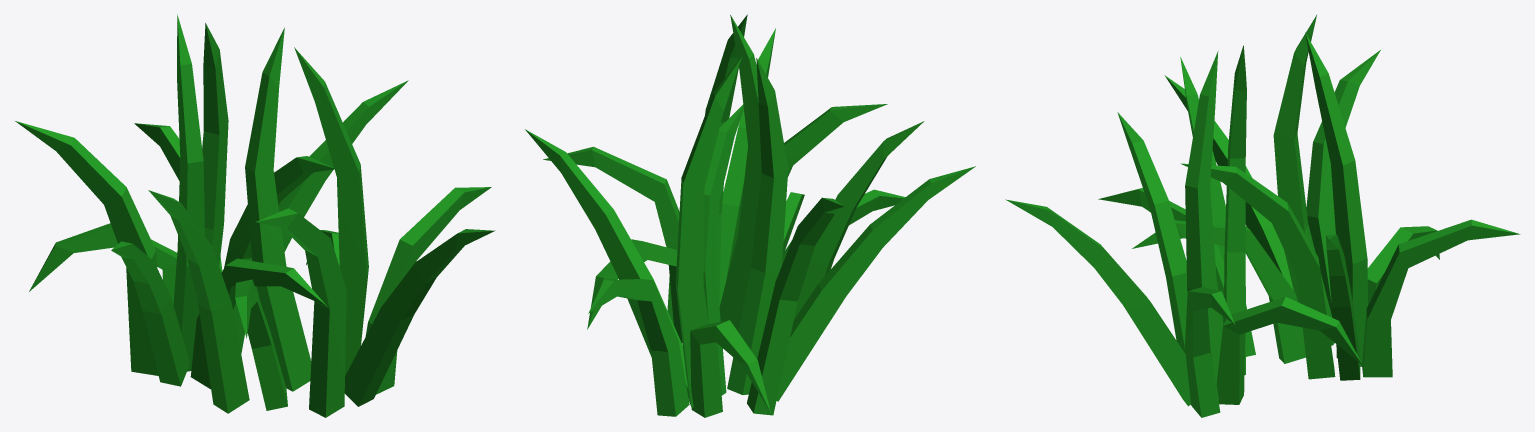
File: grass_01.fbx
The picture shows the model from 3 angles, left to right: view 1: azimuth 30°, elevation 25°; view 2: azimuth 150°, elevation 25°; view 3: azimuth 270°, elevation 25°; orthographic projection. The views are drawn at different scales.
Parts seen in each view (by area): view 1: Cube.013; view 2: Cube.013; view 3: Cube.013.
Part boxes in pixels (left/top/right/bottom): Cube.013: left=15, top=14, right=495, bottom=417; Cube.013: left=525, top=14, right=975, bottom=417; Cube.013: left=1005, top=15, right=1520, bottom=417.
Bounding box in the file's own units: 20.05 × 16.86 × 23.16.
